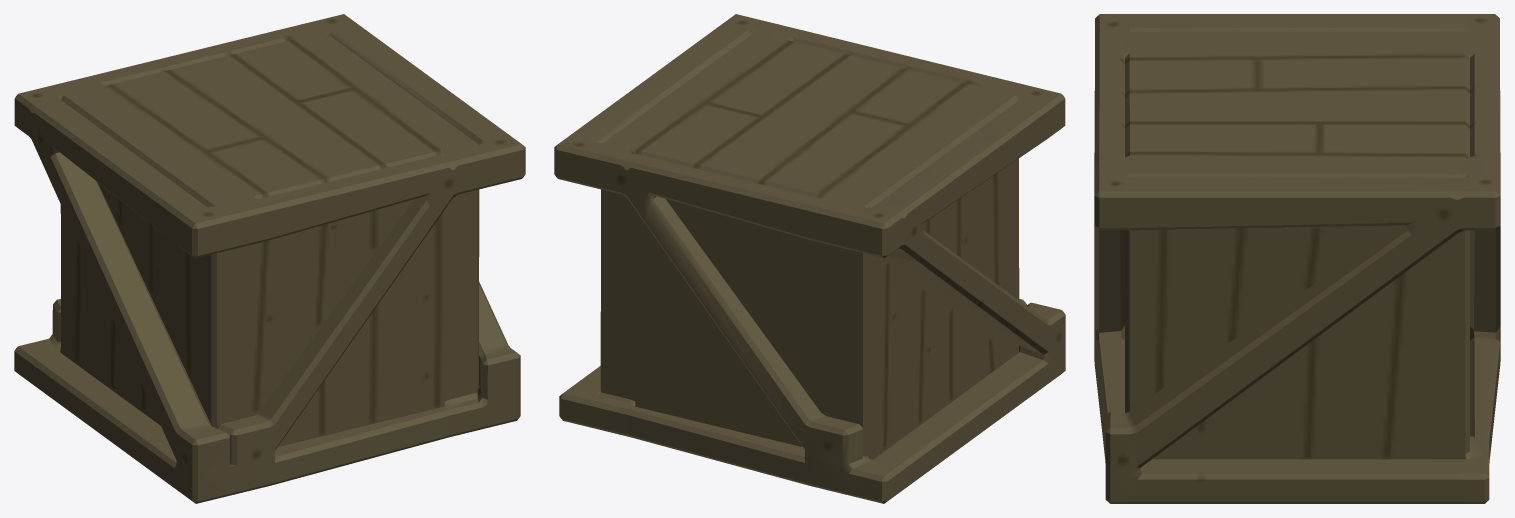
File: crate.fbx
3 renders of one model, left to right at view 1: azimuth 30°, elevation 25°; view 2: azimuth 150°, elevation 25°; view 3: azimuth 270°, elevation 25°, orthographic. The views are drawn at different scales.
Parts seen in each view (by area): view 1: polySurface389; view 2: polySurface389; view 3: polySurface389.
Boxes of the visible parts, <box> form: polySurface389: <box>14,14,525,503</box>; polySurface389: <box>554,14,1065,503</box>; polySurface389: <box>1094,14,1500,503</box>.
Bounding box in the file's own units: 1.04 × 0.8397 × 0.9884.
1 material, 1 textured.
